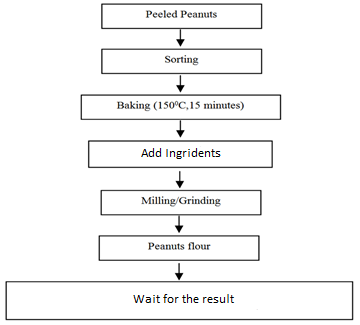arrow: (175, 167, 185, 189), (175, 118, 185, 139), (175, 75, 186, 94), (175, 28, 185, 48), (174, 261, 184, 280), (175, 214, 183, 234)
process: (4, 279, 355, 321), (79, 92, 283, 121), (87, 139, 274, 169), (99, 2, 264, 31), (96, 233, 261, 262), (100, 47, 264, 75), (99, 189, 263, 217)
text: (114, 100, 246, 113), (132, 293, 235, 305), (139, 195, 223, 207), (140, 147, 221, 159), (144, 9, 218, 20), (148, 241, 212, 252), (163, 55, 200, 66)
